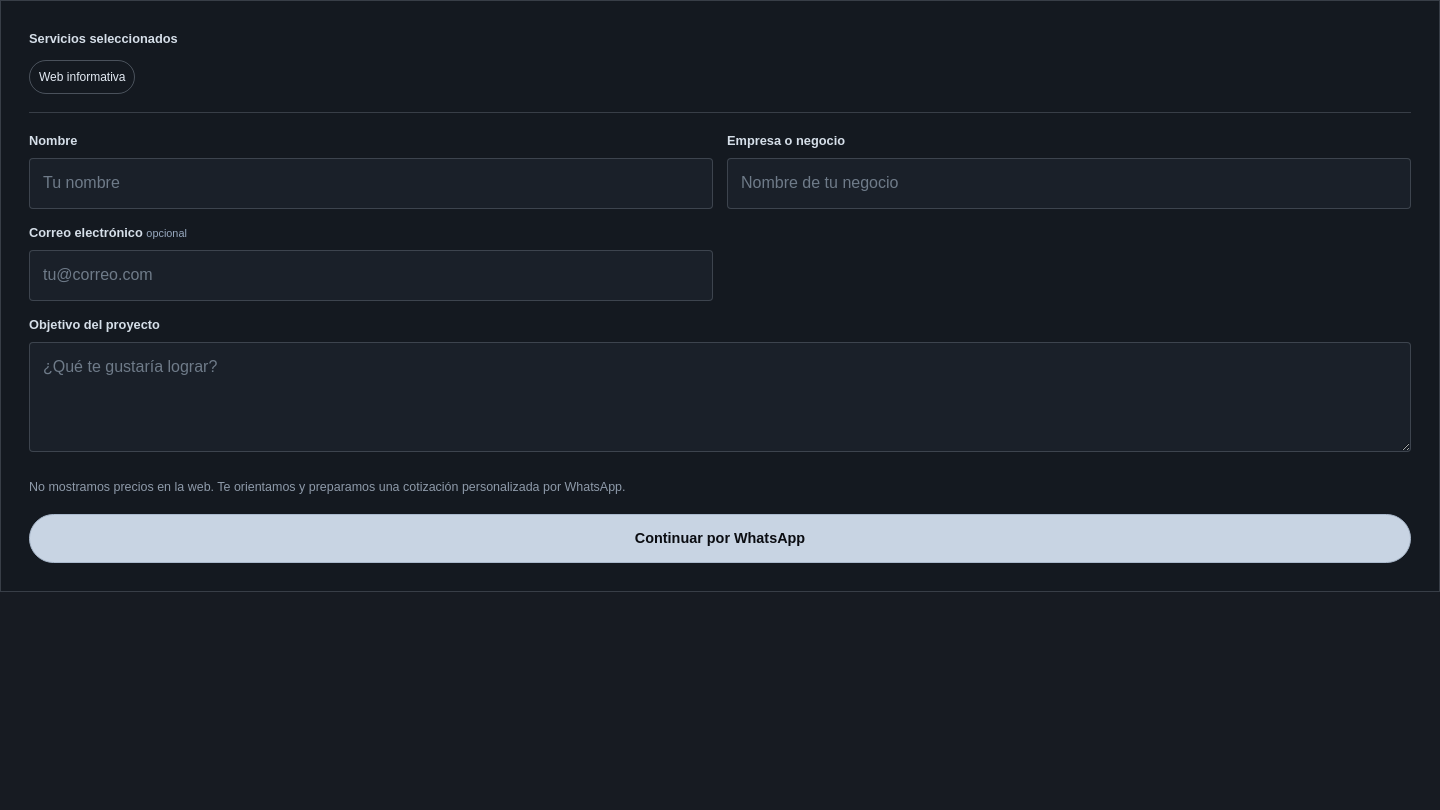
Test case: QuoteForm › opens a personalized WhatsApp URL with valid data
Type "Ana" into the field with placeholder "Tu nombre" at (371, 184), box 29,158 -> 713,209
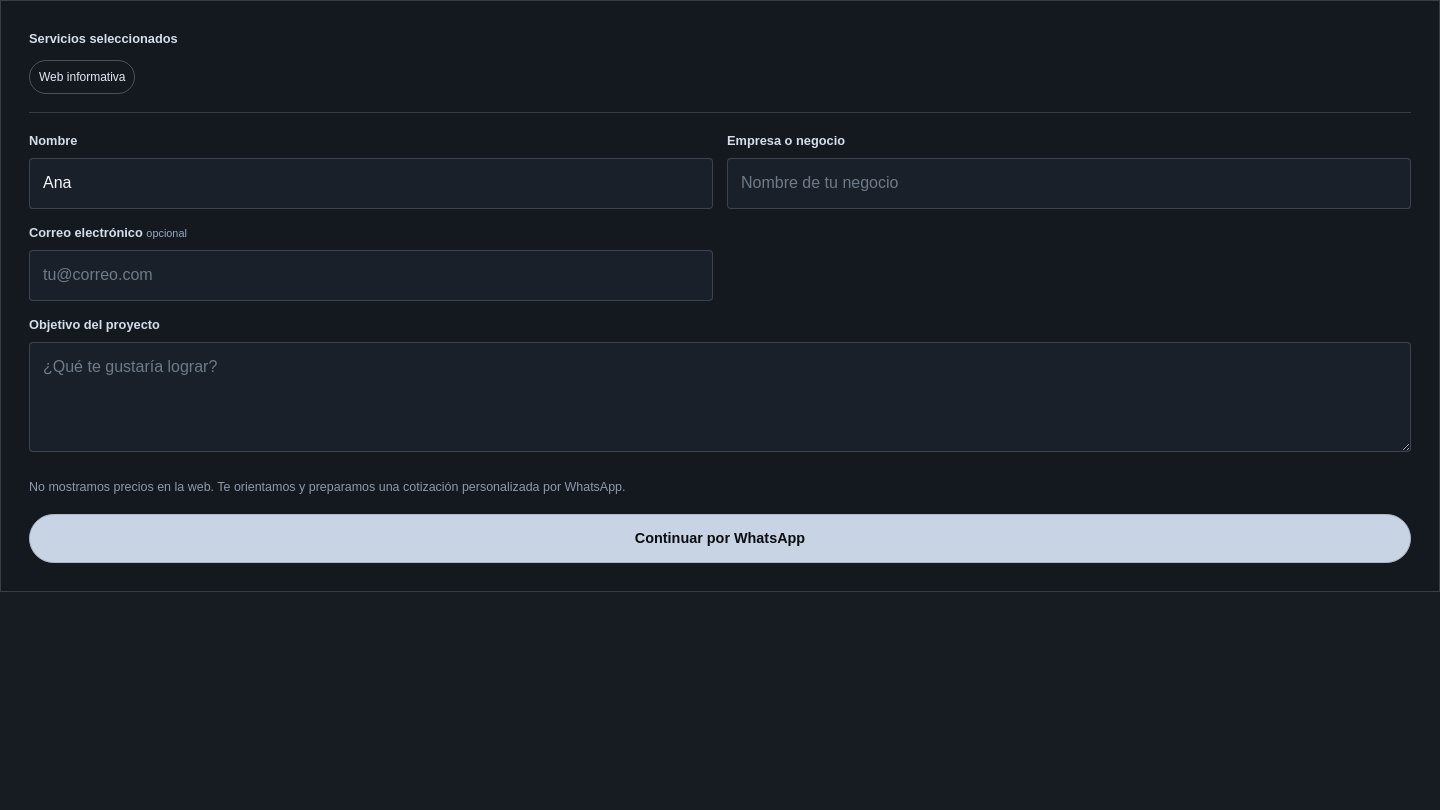
Type "Necesito una web." into the text box with placeholder "¿Qué te gustaría lograr?" at (720, 396), box 29,342 -> 1411,452
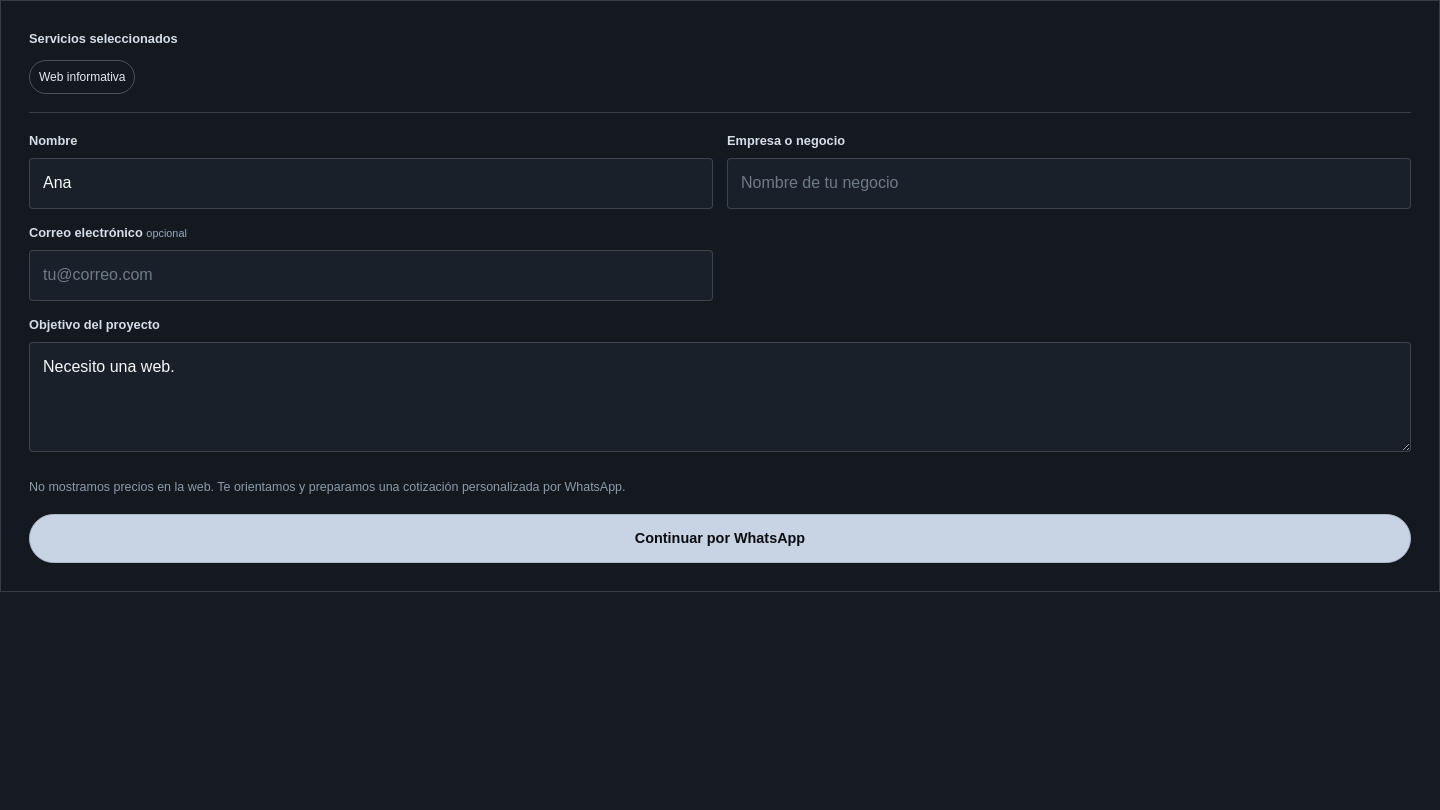
Click the button "Continuar por WhatsApp" at (720, 538), box 29,514 -> 1411,562
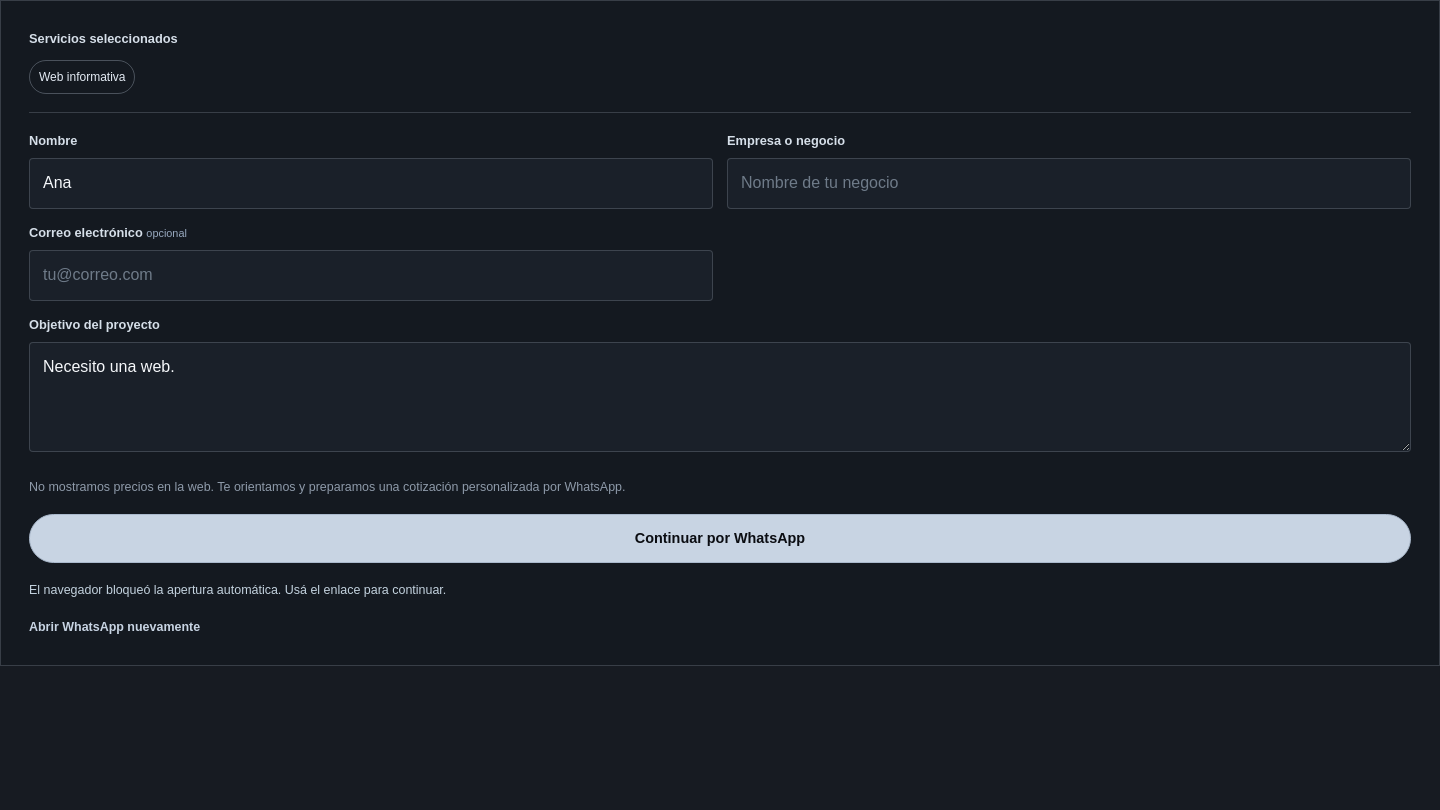
Now the message "El navegador bloqueó la apertura automática. Usá el enlace para continuar." is shown, box 29,582 -> 446,596
